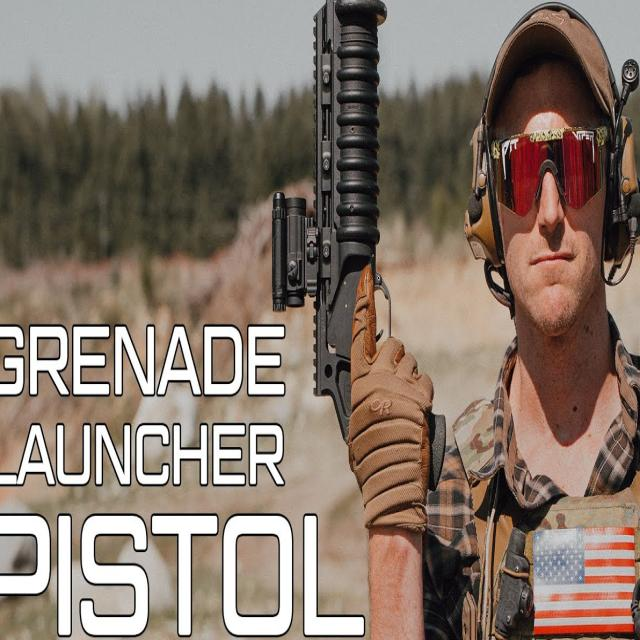Weapon: (272, 0, 390, 437)
